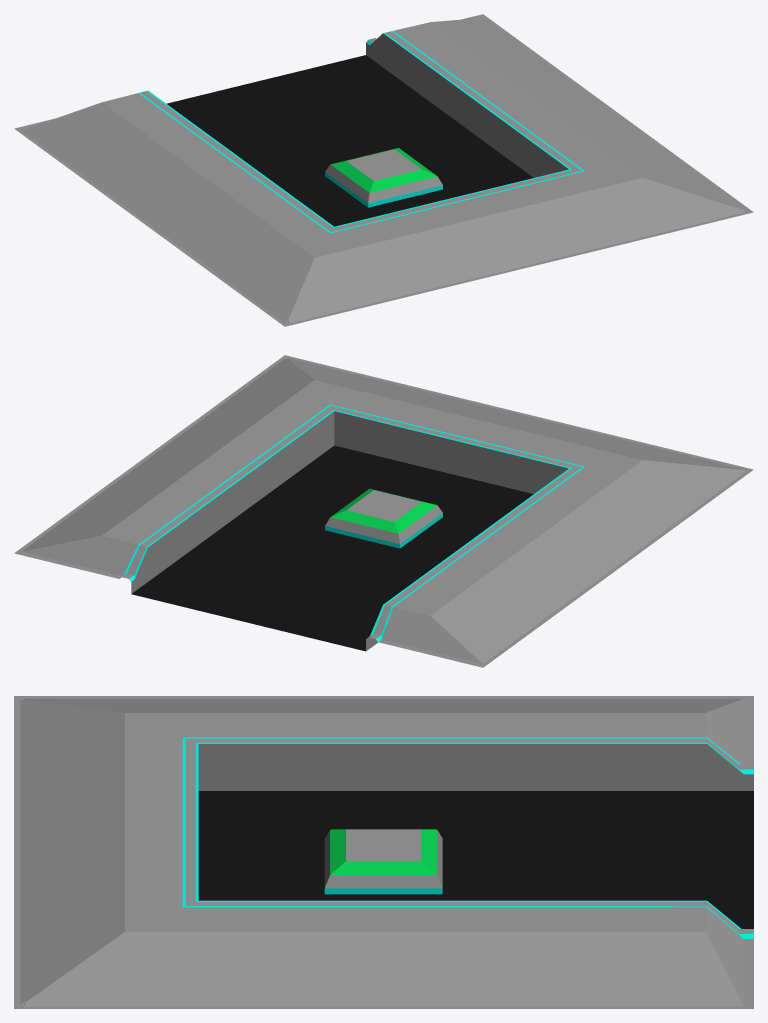
File: rail_plate_end_01.FBX
The picture shows the model from 3 angles, top to bottom: view 1: azimuth 30°, elevation 25°; view 2: azimuth 150°, elevation 25°; view 3: azimuth 270°, elevation 25°; orthographic projection. The views are drawn at different scales.
Parts seen in each view (by area): view 1: rail_plate_end_01; view 2: rail_plate_end_01; view 3: rail_plate_end_01.
Part boxes in pixels (x1,y1,x2,y2): rail_plate_end_01: (14, 14, 753, 326); rail_plate_end_01: (14, 355, 753, 667); rail_plate_end_01: (14, 696, 753, 1008).
Size of the model in its own units: 400 by 27.96 by 400.
